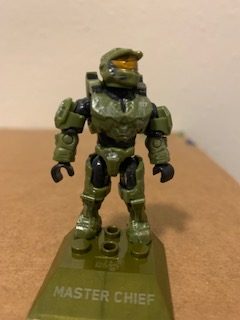chief: (47, 47, 177, 248)
spartan: (45, 45, 175, 246)
